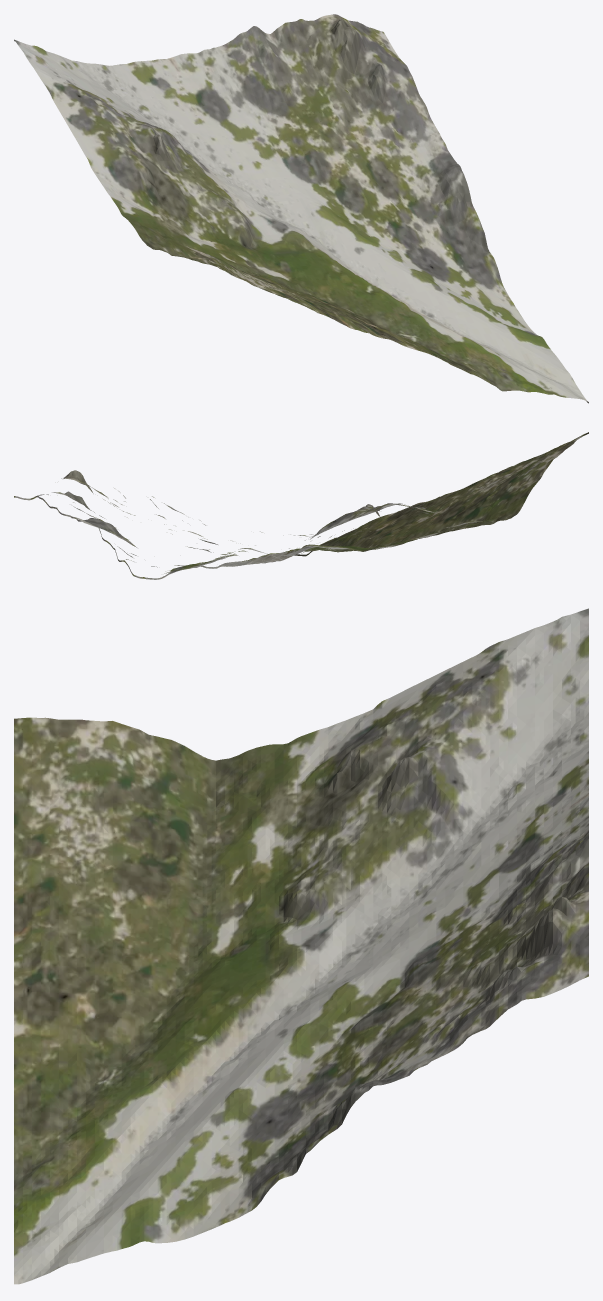
The picture shows the model from 3 angles, top to bottom: view 1: azimuth 30°, elevation 25°; view 2: azimuth 150°, elevation 25°; view 3: azimuth 270°, elevation 25°; orthographic projection. The views are drawn at different scales.
Bounding box in the file's own units: 250 × 197 × 241.
1 material, 1 textured.
